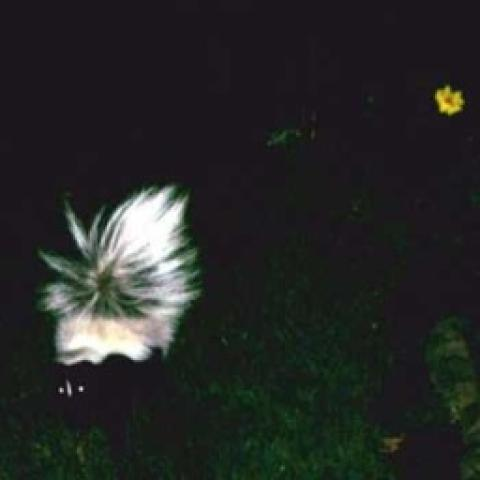small_animal: (25, 187, 201, 458)
